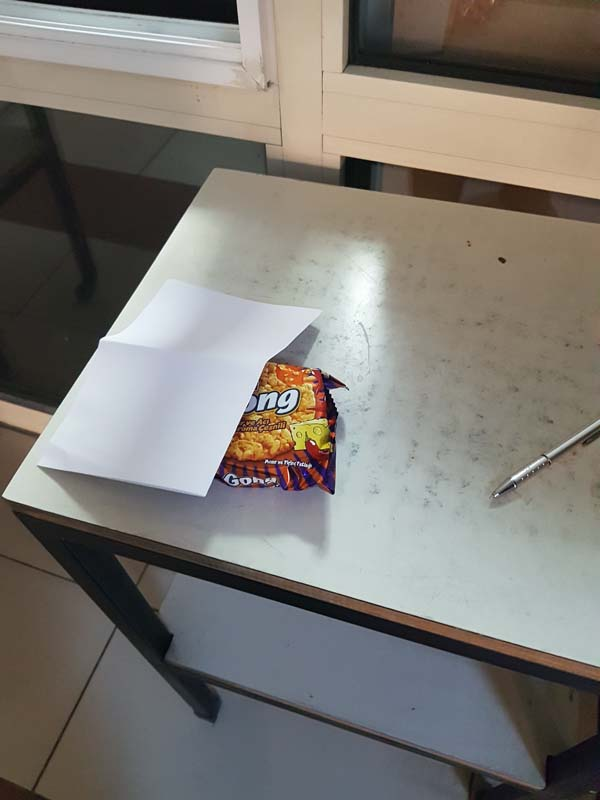etigong: (216, 344, 343, 496)
